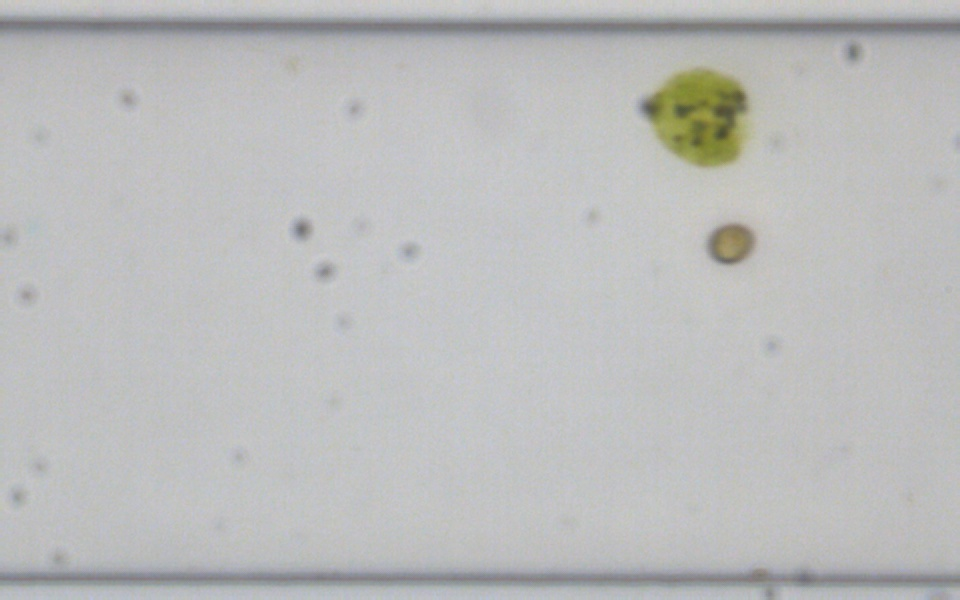Effrenium: (704, 219, 755, 266)
Haematococcus: (634, 62, 755, 172)
